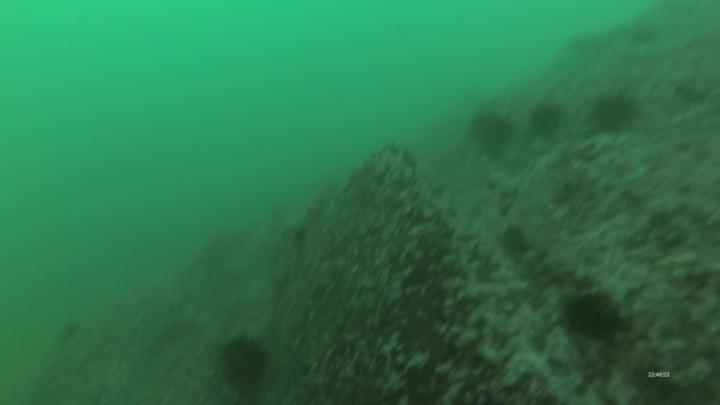echinus: (218, 332, 275, 402), (559, 290, 622, 346), (472, 110, 516, 160), (591, 93, 640, 135), (526, 100, 570, 140)
